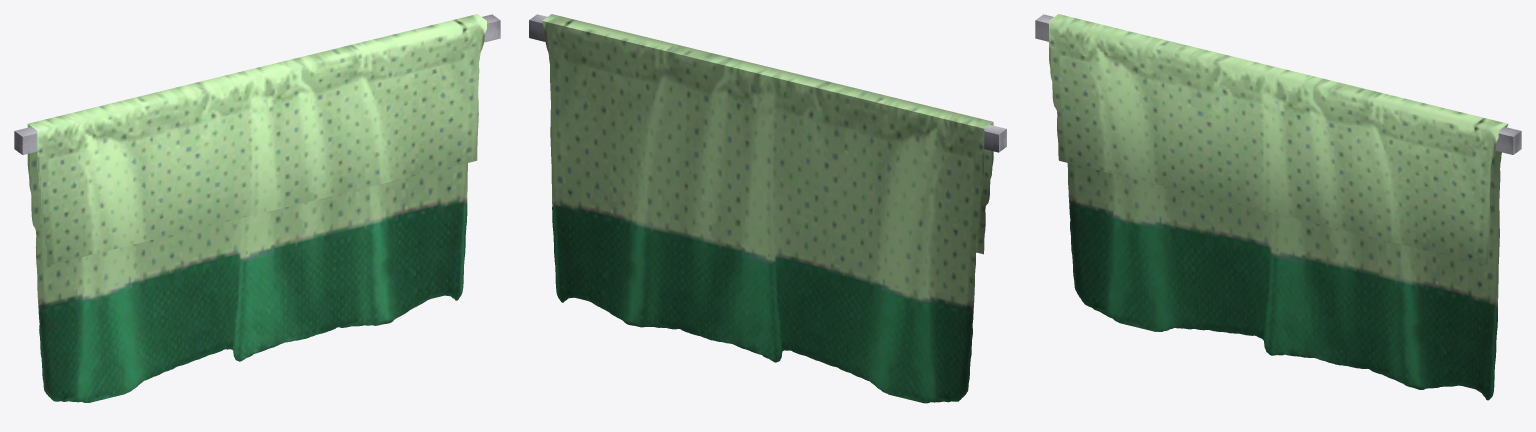
File: furni_0200528_02.FBX
3 renders of one model, left to right at view 1: azimuth 30°, elevation 25°; view 2: azimuth 150°, elevation 25°; view 3: azimuth 330°, elevation 25°, orthographic.
Parts seen in each view (by area): view 1: furni_0200528_02; view 2: furni_0200528_02; view 3: furni_0200528_02.
Part boxes in pixels (x1,y1,x2,y2): furni_0200528_02: (14,14,500,402); furni_0200528_02: (529,14,1006,403); furni_0200528_02: (1035,14,1521,400).
Size of the model in its own units: 87.31 by 51.37 by 3.04.
Materials: 1 (1 with a texture image).
